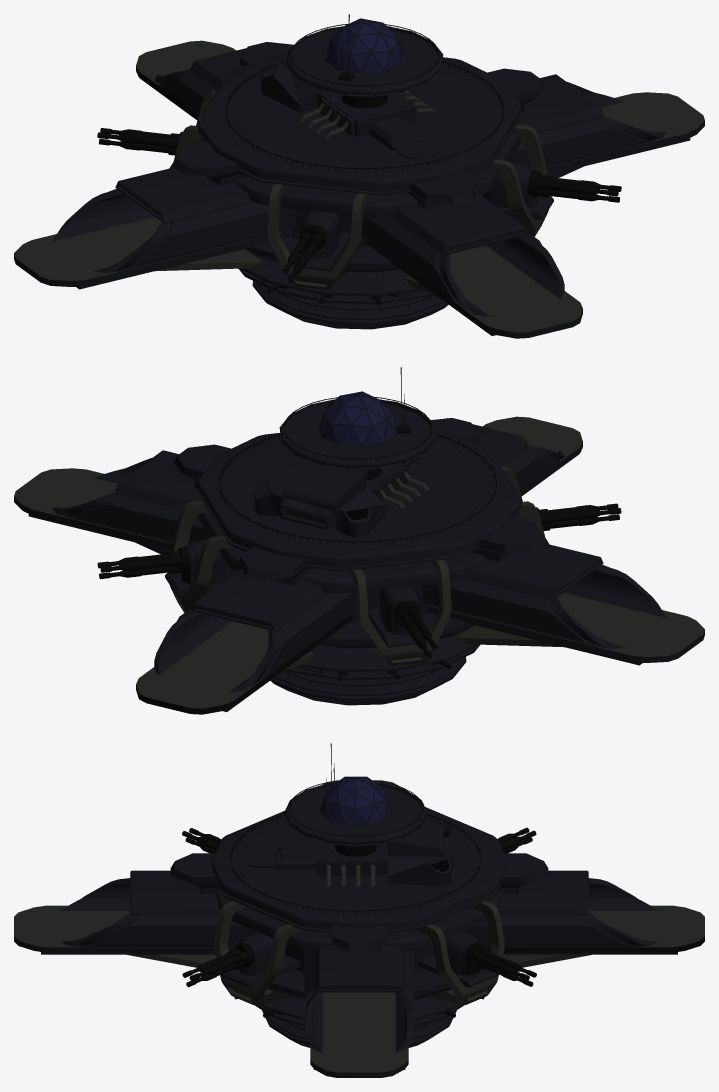
Rendered from SM_SpaceStation_A.fbx.
The picture shows the model from 3 angles, top to bottom: view 1: azimuth 30°, elevation 25°; view 2: azimuth 150°, elevation 25°; view 3: azimuth 270°, elevation 25°; orthographic projection. The views are drawn at different scales.
Visible parts, largest first — view 1: station_core_A, station_platform_A.003, station_platform_A, station_tower_A, station_platform_A.001, station_platform_A.002, station_gun_A, station_gun_A.003, station_gun_A.002; view 2: station_core_A, station_platform_A.003, station_platform_A.002, station_tower_A, station_platform_A.001, station_platform_A, station_gun_A.001, station_gun_A.002, station_gun_A.003; view 3: station_core_A, station_tower_A, station_platform_A, station_platform_A.002, station_platform_A.001, station_gun_A.001, station_gun_A, station_gun_A.002, station_gun_A.003.
Part boxes in pixels (x1=…): station_core_A: x1=169, y1=52, x2=553, y2=329; station_platform_A.003: x1=14, y1=141, x2=295, y2=289; station_platform_A: x1=362, y1=170, x2=582, y2=338; station_tower_A: x1=226, y1=14, x2=503, y2=172; station_platform_A.001: x1=488, y1=68, x2=704, y2=177; station_platform_A.002: x1=136, y1=40, x2=293, y2=119; station_gun_A: x1=482, y1=163, x2=621, y2=208; station_gun_A.003: x1=282, y1=210, x2=339, y2=283; station_gun_A.002: x1=97, y1=128, x2=200, y2=155; station_core_A: x1=165, y1=429, x2=549, y2=705; station_platform_A.003: x1=423, y1=517, x2=704, y2=665; station_platform_A.002: x1=136, y1=546, x2=356, y2=714; station_tower_A: x1=219, y1=367, x2=496, y2=545; station_platform_A.001: x1=14, y1=444, x2=230, y2=554; station_platform_A: x1=431, y1=416, x2=582, y2=495; station_gun_A.001: x1=97, y1=539, x2=236, y2=584; station_gun_A.002: x1=380, y1=586, x2=437, y2=658; station_gun_A.003: x1=518, y1=503, x2=621, y2=530; station_core_A: x1=211, y1=807, x2=507, y2=1047; station_tower_A: x1=230, y1=743, x2=481, y2=914; station_platform_A: x1=14, y1=853, x2=256, y2=967; station_platform_A.002: x1=462, y1=853, x2=704, y2=967; station_platform_A.001: x1=304, y1=925, x2=414, y2=1077; station_gun_A.001: x1=445, y1=931, x2=536, y2=986; station_gun_A: x1=182, y1=931, x2=273, y2=987; station_gun_A.002: x1=497, y1=827, x2=536, y2=853; station_gun_A.003: x1=182, y1=828, x2=221, y2=853.
Bounding box in the file's own units: 41087 × 18495 × 41087.
